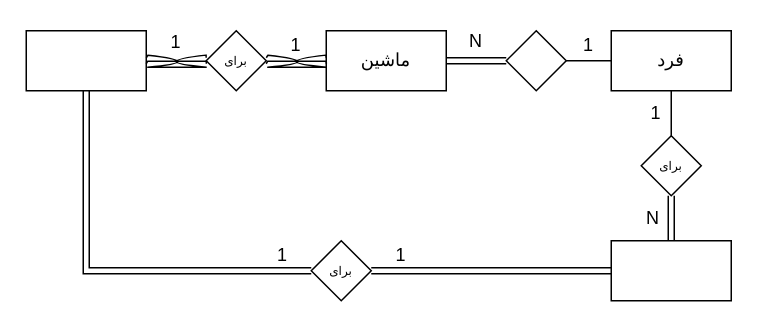
The diagram is 758 pixels wide and 327 high, and some of its shapes have lost their labels. Each missing label, with the centre of its shape:
جریمه: (x=670, y=270)
سرپرست: (x=535, y=60)
پلاک: (x=85, y=60)
